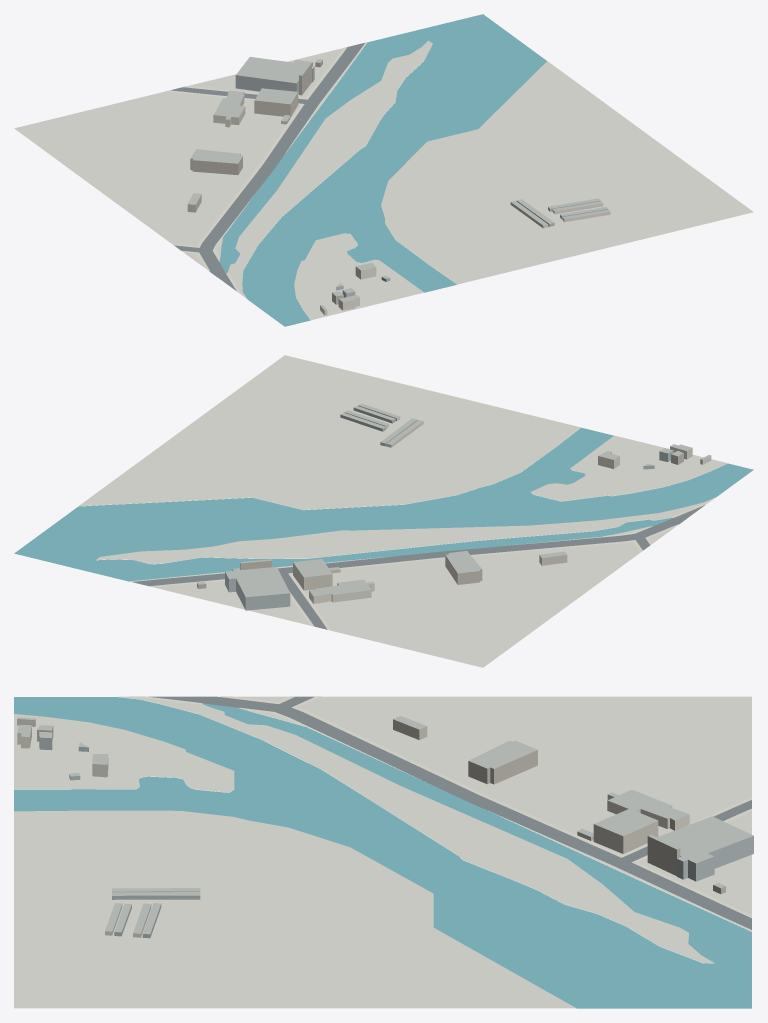
3 renders of one model, top to bottom at view 1: azimuth 30°, elevation 25°; view 2: azimuth 150°, elevation 25°; view 3: azimuth 270°, elevation 25°, orthographic. The views are drawn at different scales.
Parts seen in each view (by area): view 1: city; view 2: city; view 3: city.
Boxes of the visible parts, x1,y1,x2,y2 form: city: (14, 14, 753, 326); city: (14, 355, 753, 667); city: (14, 696, 753, 1008).
Size of the model in its own units: 500 by 20.18 by 501.
